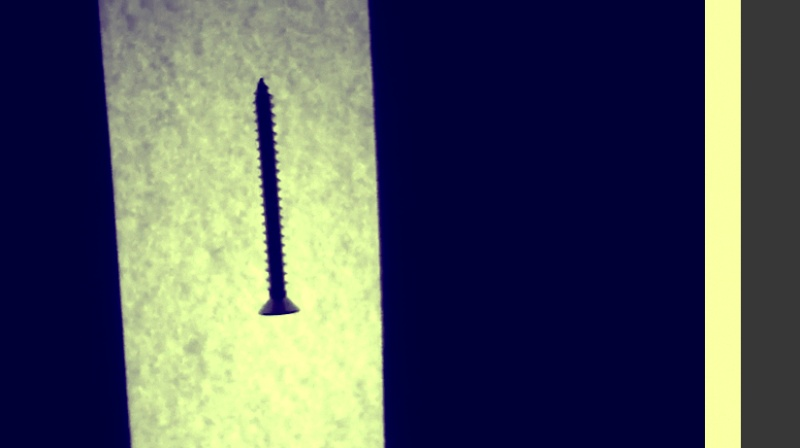S002: (250, 73, 304, 319)
